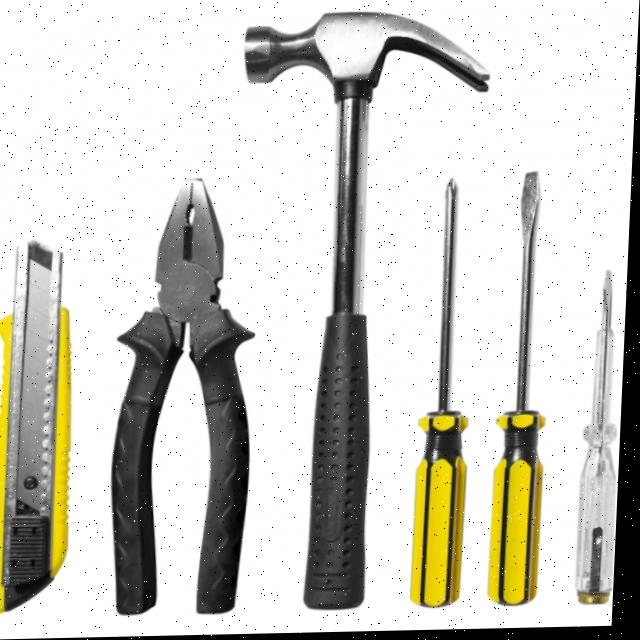Screwdriver: (494, 174, 549, 606), (416, 182, 471, 609), (581, 274, 620, 606)
